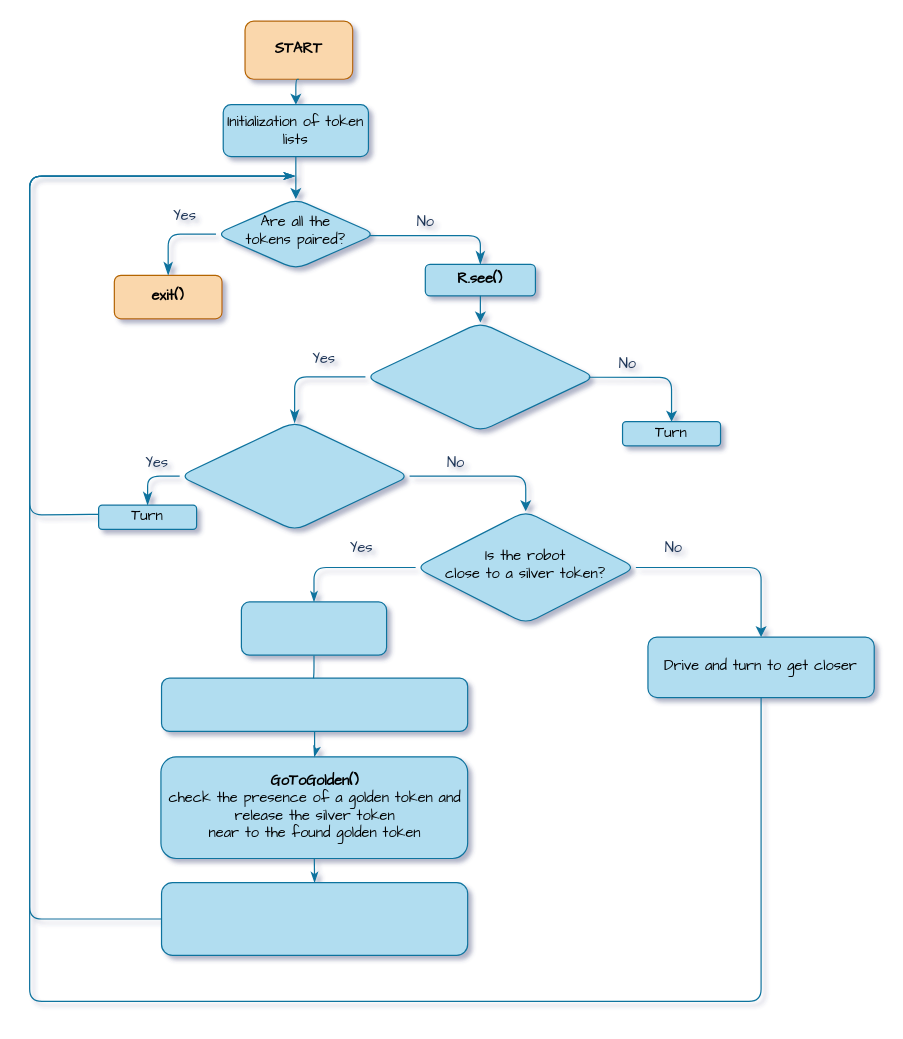
Image size: 903x1039. Some labels were removed from this diagram. Each missing label, with the centre of its shape:
"Add the Silver code to the silver token's list" belongs at (314,704).
"Drive and turn to move the robot away from the released token" belongs at (314,918).
"Is the robot seeing a silver token?" belongs at (479,376).
"Is the token already paired with a golden token?" belongs at (294,475).
"R.grab()" belongs at (313,628).
